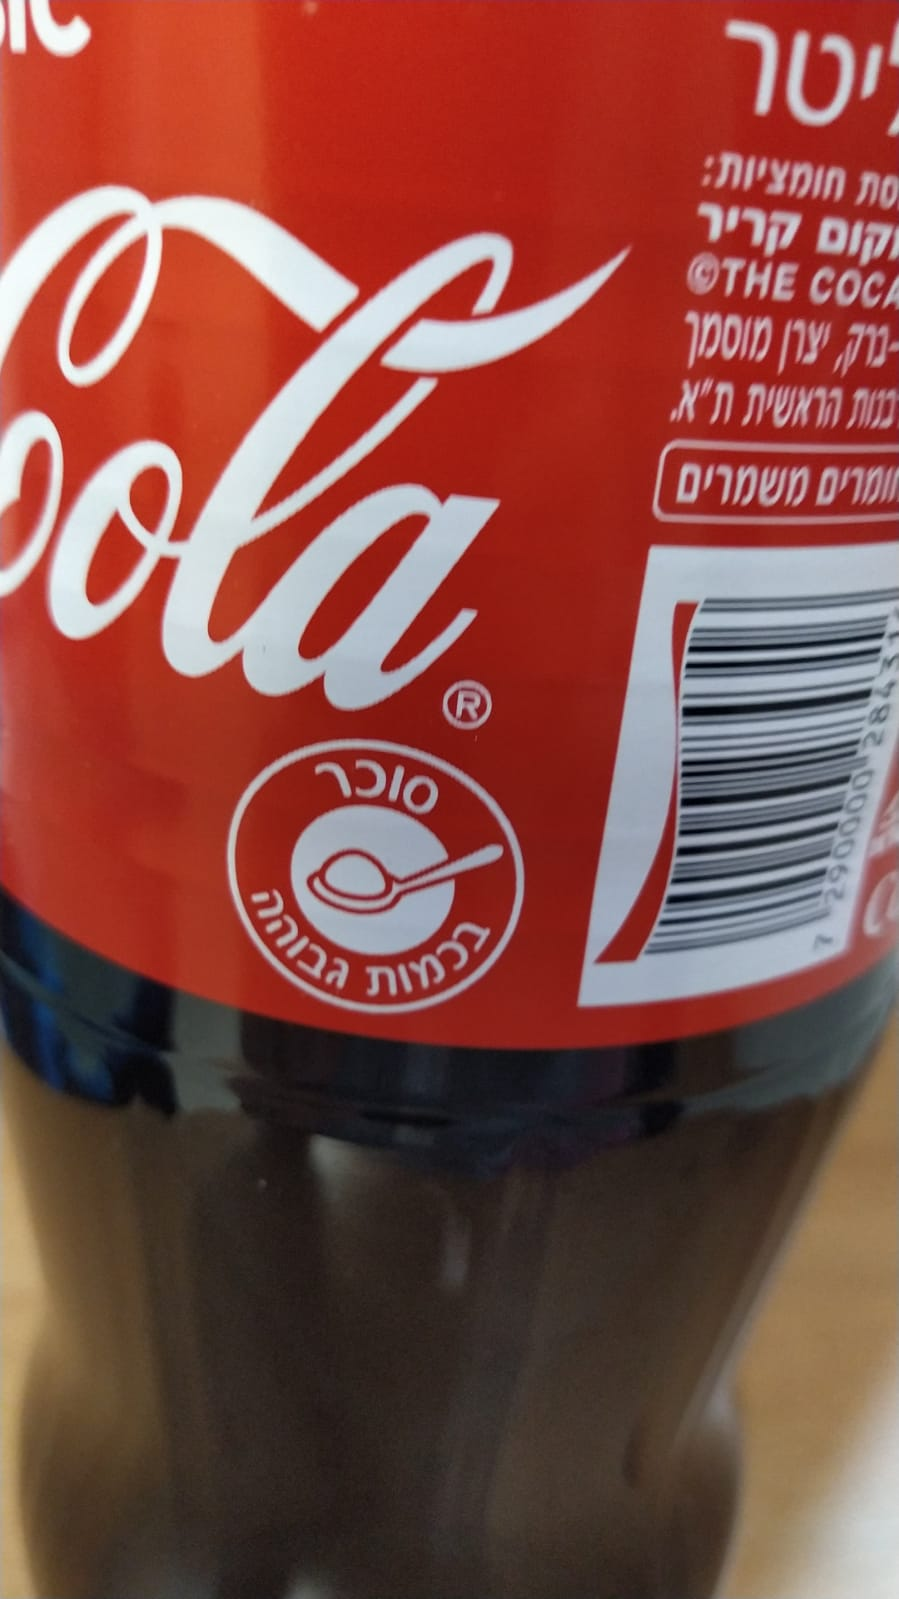sugar: (221, 734, 528, 1017)
